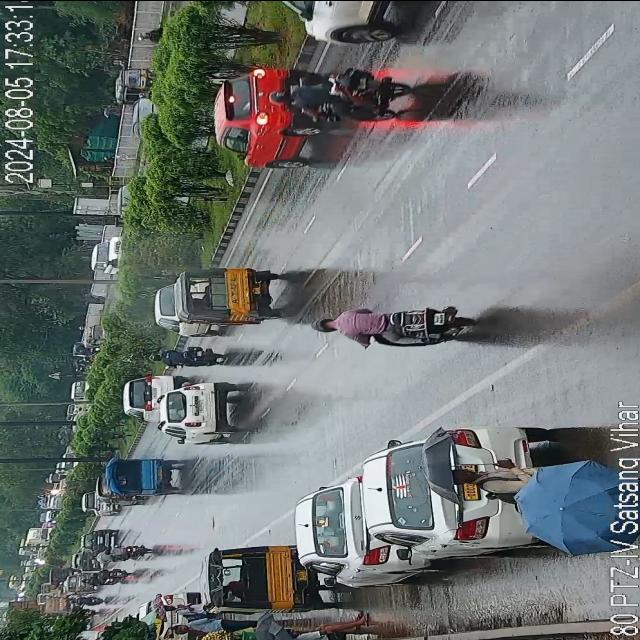2-wheelers: (325, 304, 481, 346), (273, 76, 407, 118), (445, 458, 619, 488), (268, 615, 369, 640), (154, 342, 230, 368), (172, 614, 258, 636), (101, 545, 147, 557)
auto: (209, 545, 297, 606), (186, 266, 270, 320), (113, 454, 177, 492), (158, 301, 212, 338)
car: (370, 428, 522, 548), (304, 489, 430, 586), (214, 71, 304, 169), (286, 0, 396, 42), (169, 379, 235, 439), (121, 368, 172, 416), (90, 234, 119, 274)
